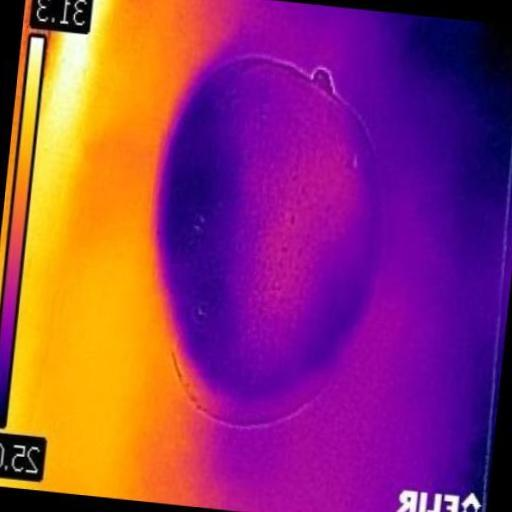alphanso: (159, 57, 376, 423)
